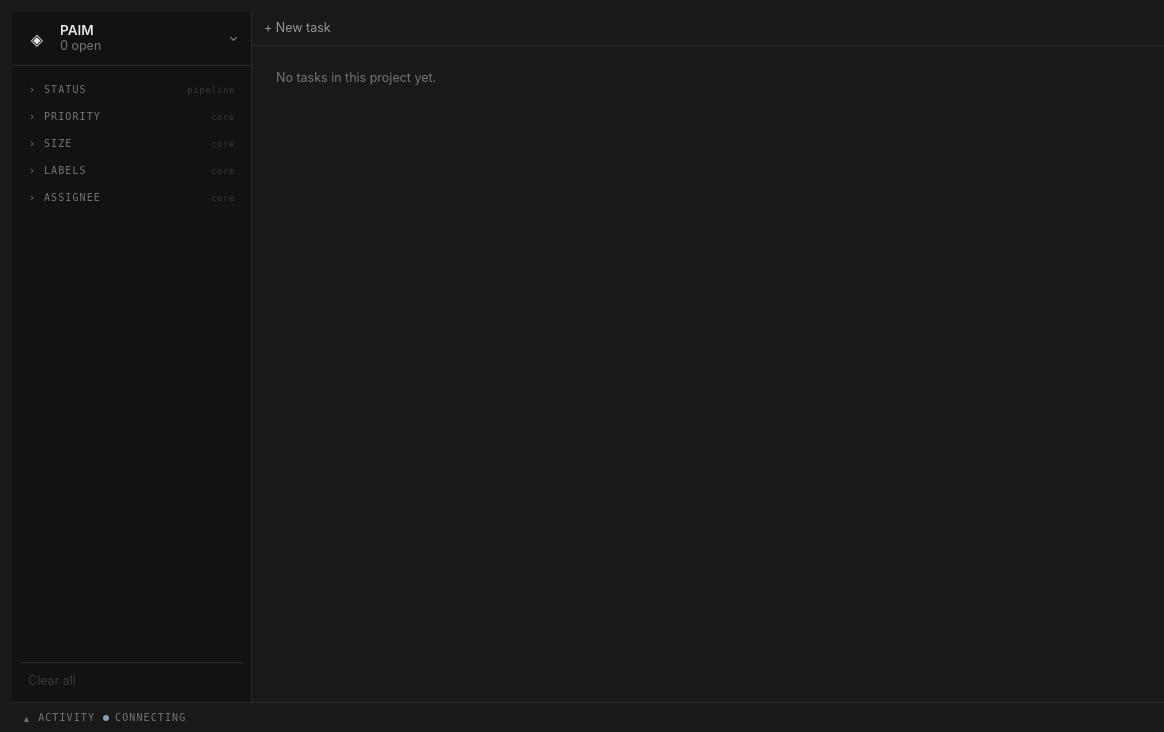
create-via-keyboard, end to end › reports the failure and keeps the draft when the service refuses
Click the button "+ New task" at (297, 28), box left=264, top=20, right=331, bottom=37
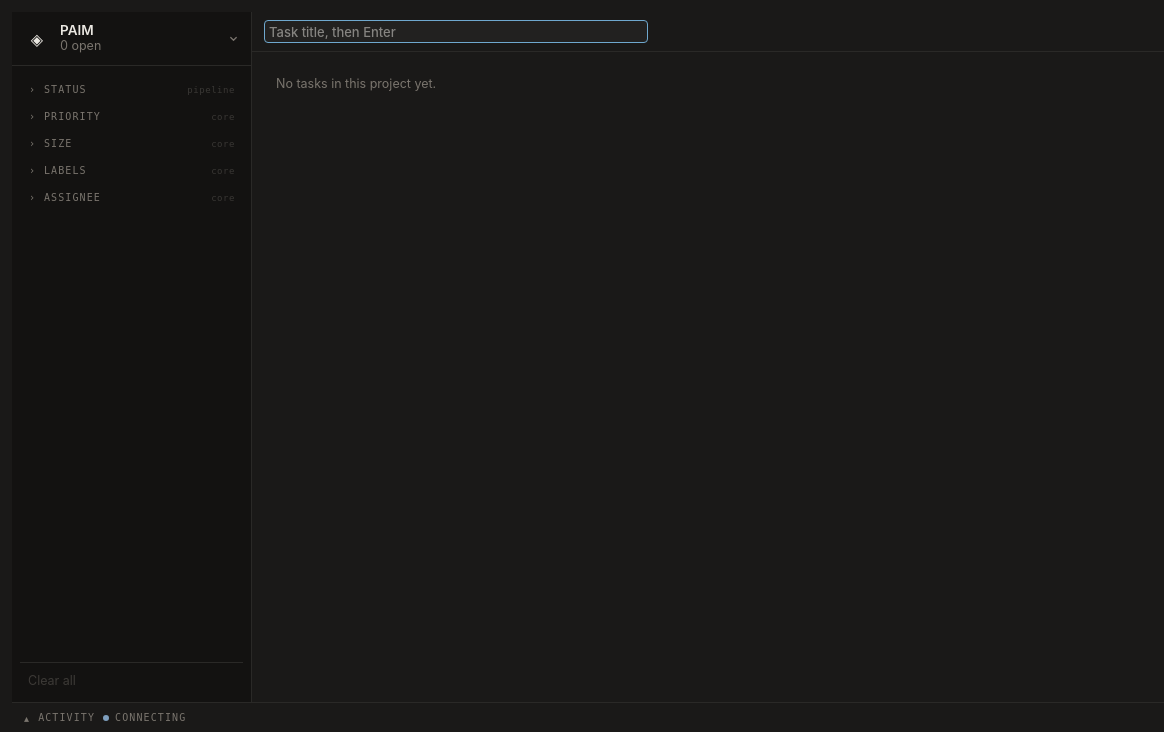
Type "Retry me" into the field named "New task title" at (456, 32), box left=264, top=20, right=648, bottom=43
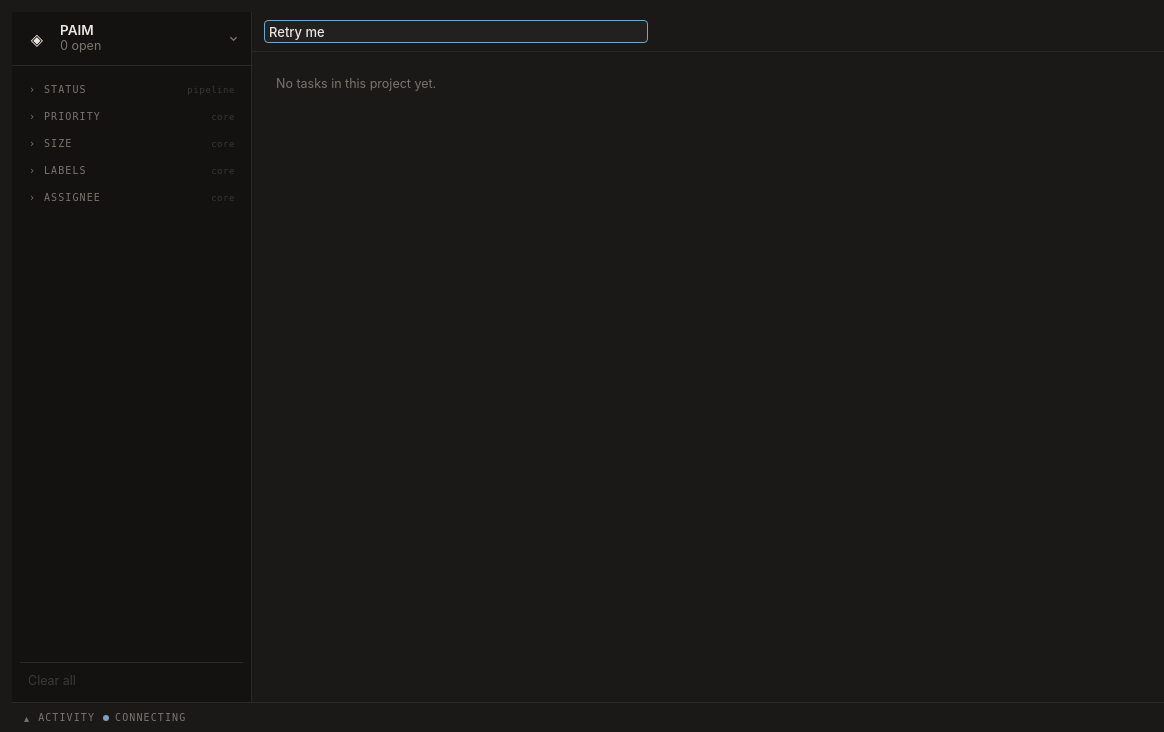
Press Enter
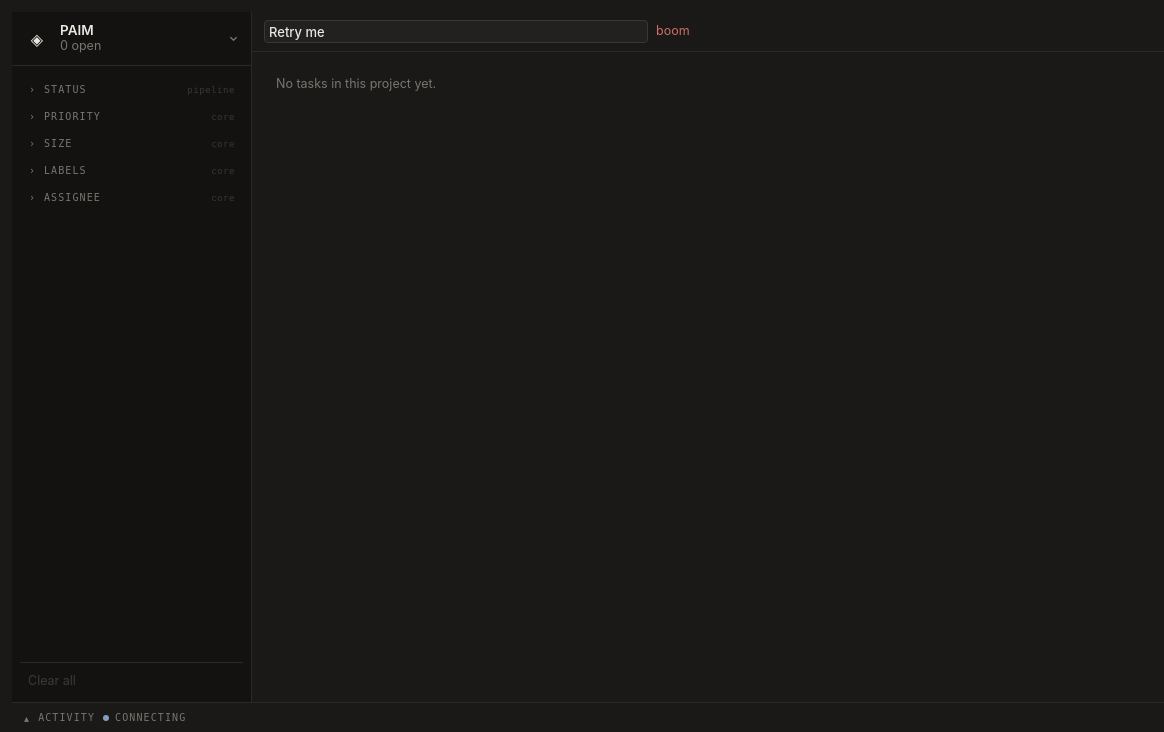
Expected: the message "boom" is shown, left=656, top=23, right=690, bottom=40
